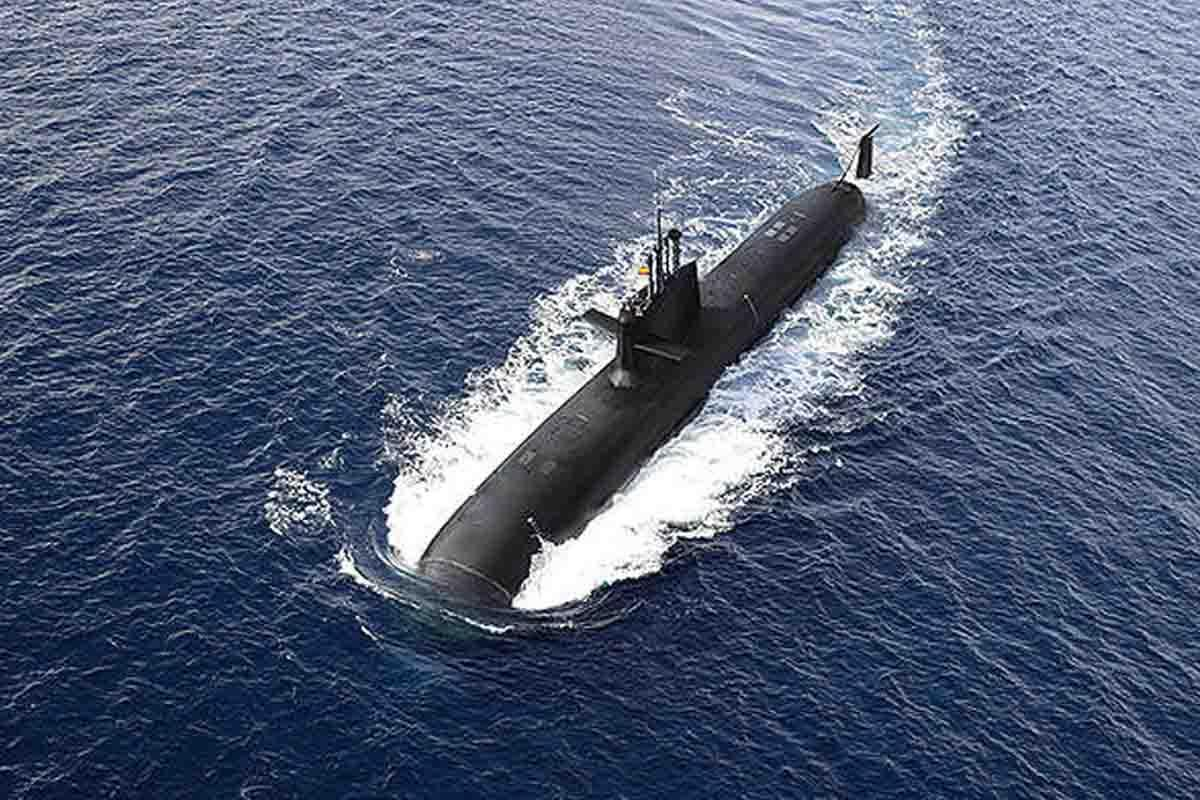Submarine: (316, 38, 982, 736)
